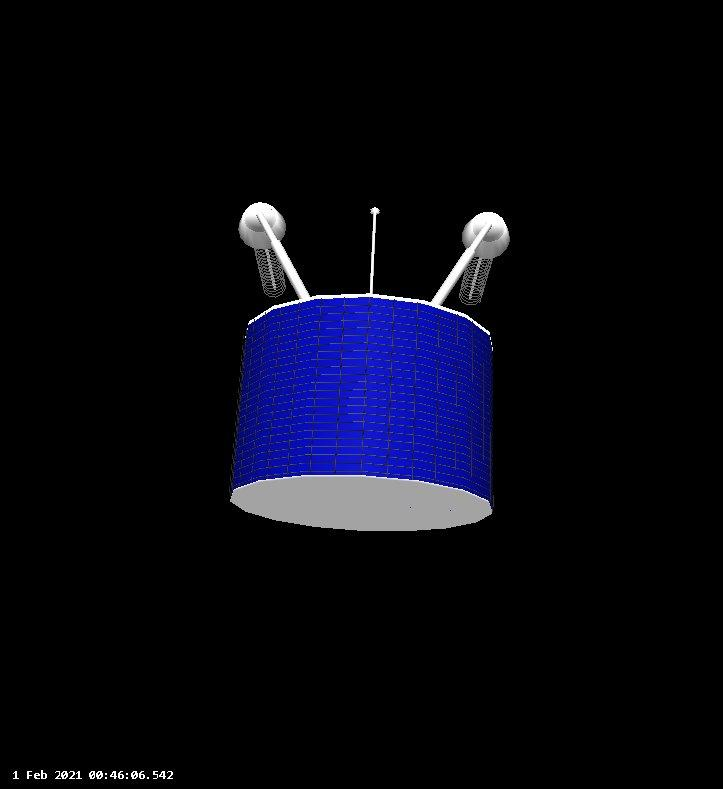antenna: (235, 200, 294, 305), (459, 208, 511, 309), (363, 200, 385, 297)
body: (225, 289, 501, 537)
solar: (230, 293, 499, 509)
